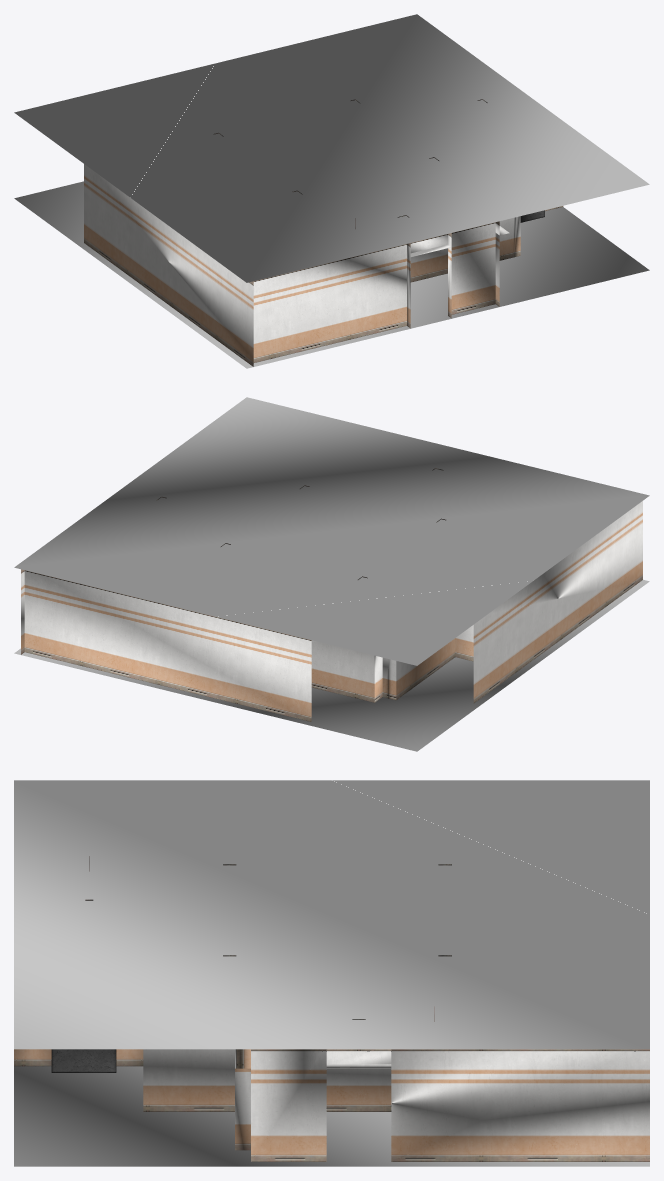
The model's file is lockroom2_opt.obj.
3 renders of one model, top to bottom at view 1: azimuth 30°, elevation 25°; view 2: azimuth 150°, elevation 25°; view 3: azimuth 270°, elevation 25°, orthographic. The views are drawn at different scales.
Size of the model in its own units: 94.4 by 21.79 by 94.4.
